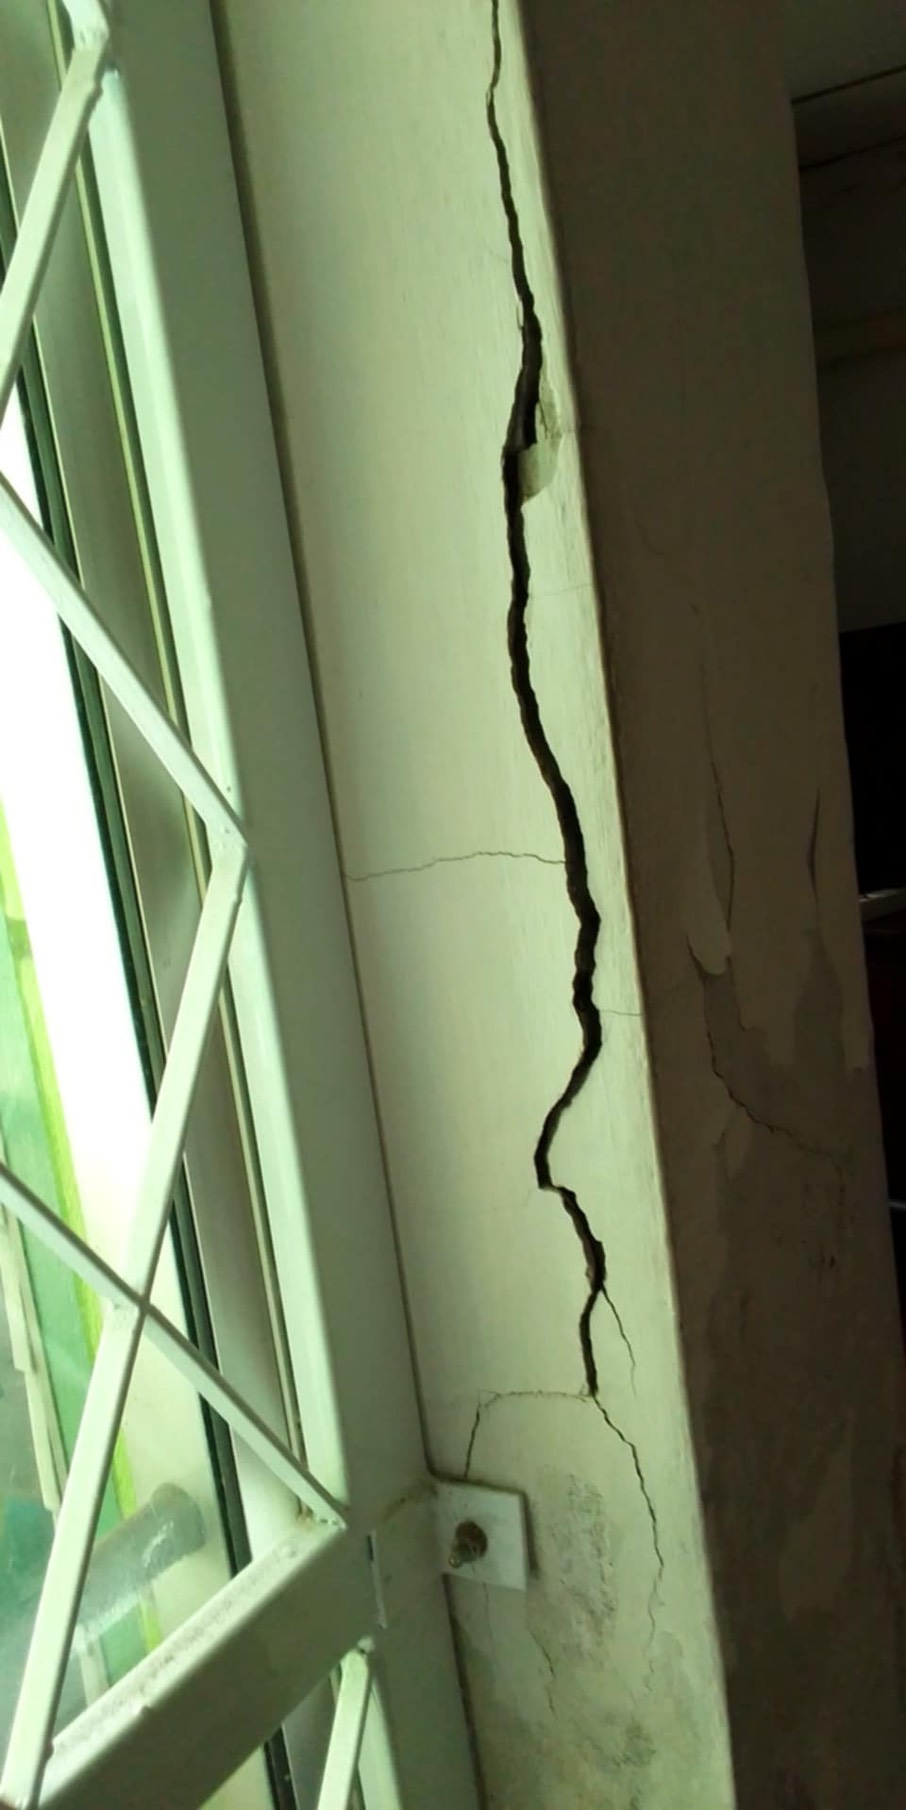High: (355, 2, 809, 1807)
